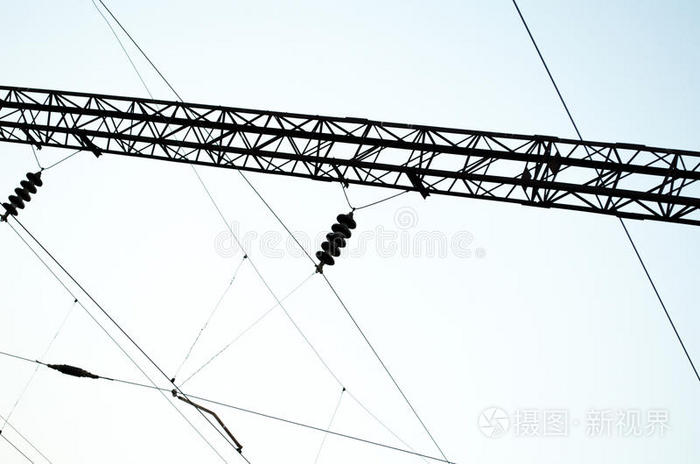insulator: (315, 214, 356, 265), (1, 167, 44, 215)
